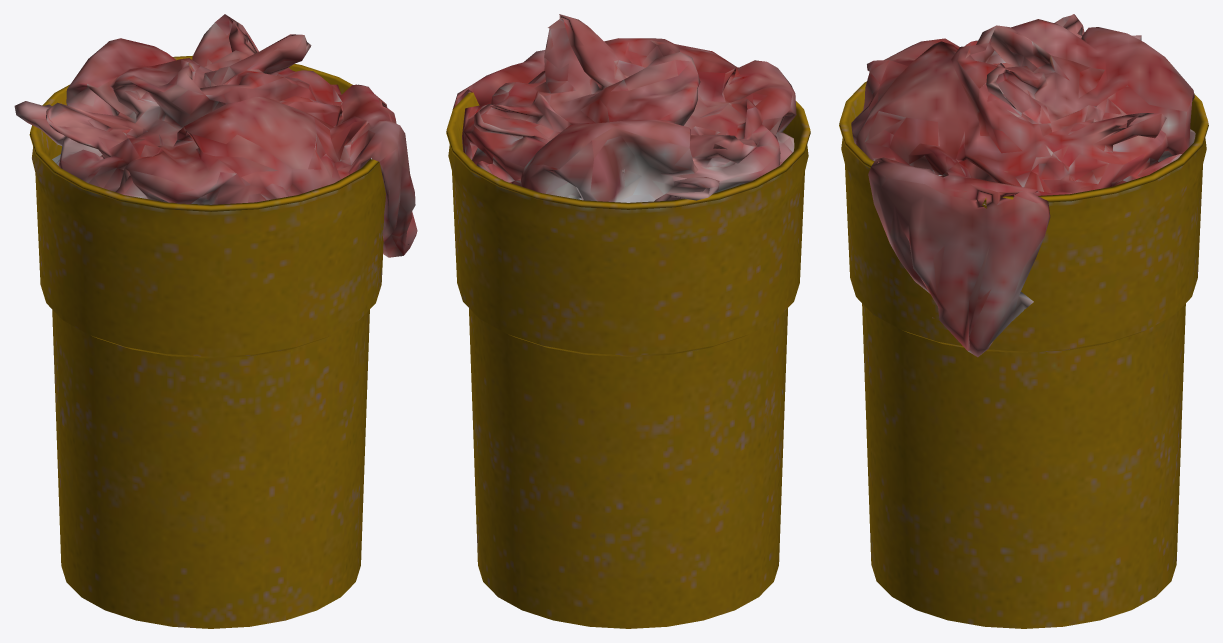
File: 206_TrashBox.fbx
3 renders of one model, left to right at view 1: azimuth 30°, elevation 25°; view 2: azimuth 150°, elevation 25°; view 3: azimuth 270°, elevation 25°, orthographic.
Visible parts, largest first — view 1: LOD_1_Group_2_Sub_1__sm30_206_TrashBoxA02A_A_Mat__MAT, LOD_1_Group_1_Sub_1__sm30_206_TrashBoxA02A_A_Mat__MAT; view 2: LOD_1_Group_2_Sub_1__sm30_206_TrashBoxA02A_A_Mat__MAT, LOD_1_Group_1_Sub_1__sm30_206_TrashBoxA02A_A_Mat__MAT; view 3: LOD_1_Group_2_Sub_1__sm30_206_TrashBoxA02A_A_Mat__MAT, LOD_1_Group_1_Sub_1__sm30_206_TrashBoxA02A_A_Mat__MAT.
Part boxes in pixels (left/top/right/bottom): LOD_1_Group_2_Sub_1__sm30_206_TrashBoxA02A_A_Mat__MAT: left=29, top=55, right=385, bottom=628; LOD_1_Group_1_Sub_1__sm30_206_TrashBoxA02A_A_Mat__MAT: left=14, top=14, right=417, bottom=257; LOD_1_Group_2_Sub_1__sm30_206_TrashBoxA02A_A_Mat__MAT: left=446, top=92, right=810, bottom=628; LOD_1_Group_1_Sub_1__sm30_206_TrashBoxA02A_A_Mat__MAT: left=452, top=14, right=796, bottom=202; LOD_1_Group_2_Sub_1__sm30_206_TrashBoxA02A_A_Mat__MAT: left=839, top=81, right=1208, bottom=628; LOD_1_Group_1_Sub_1__sm30_206_TrashBoxA02A_A_Mat__MAT: left=851, top=14, right=1195, bottom=357.
Size of the model in its own units: 0.8625 by 1.26 by 0.7981.
